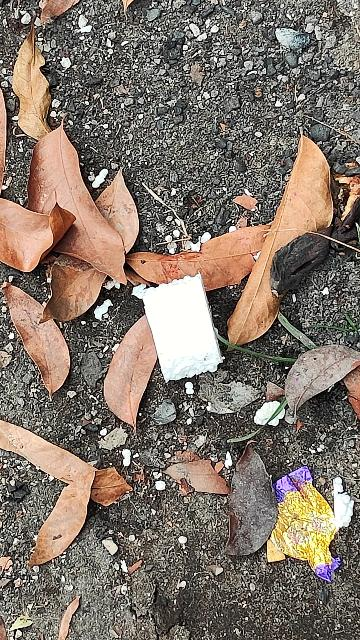cocksheet: (133, 262, 227, 395)
